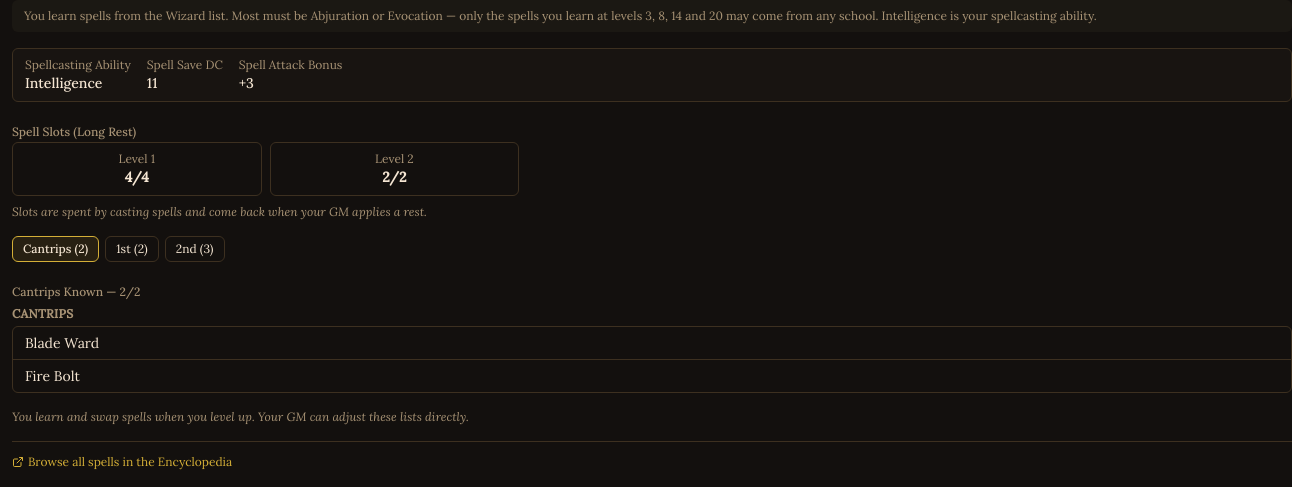
Test: ClassSheet — Eldritch Knight unified spell level strip › the 1st-level tab shows only the Abj/Evo section (Any School hidden — no 1st-level spell)
Expected: the element with test id "spell-level-tabs" is shown, top-left (12, 236), bottom-right (224, 262)
Click the button with test id "spell-level-tab-1" at (132, 249), box top-left (105, 236), bottom-right (159, 262)
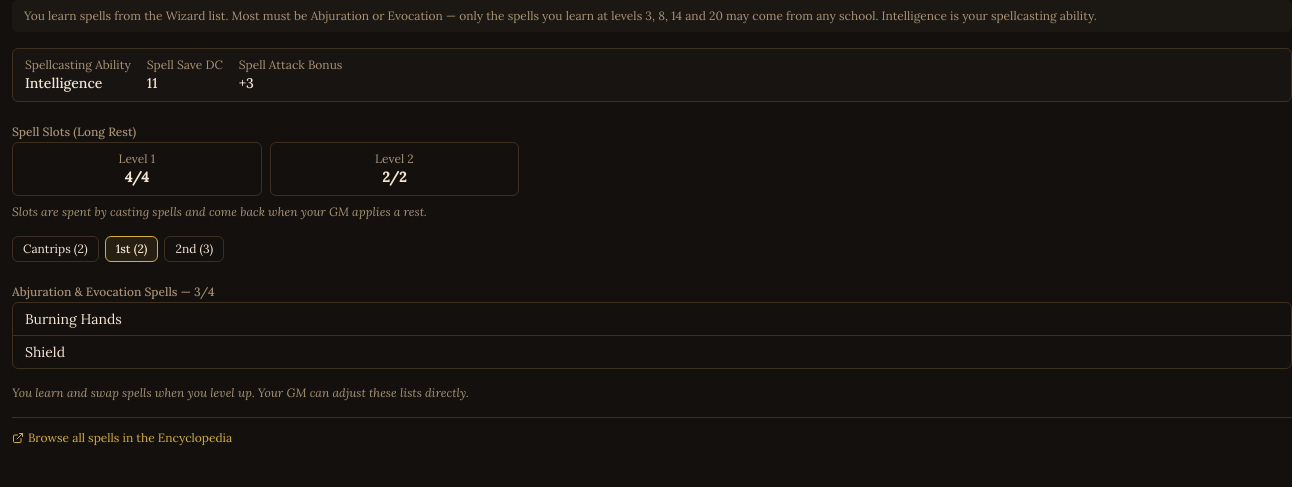
Result: the element with test id "ek-known-restricted" shows "Abjuration & Evocation Spells" at top-left (12, 284), bottom-right (214, 299)
Result: the button "Shield" is shown at top-left (25, 342), bottom-right (1271, 362)
Result: the button "Burning Hands" is shown at top-left (25, 309), bottom-right (1271, 329)
